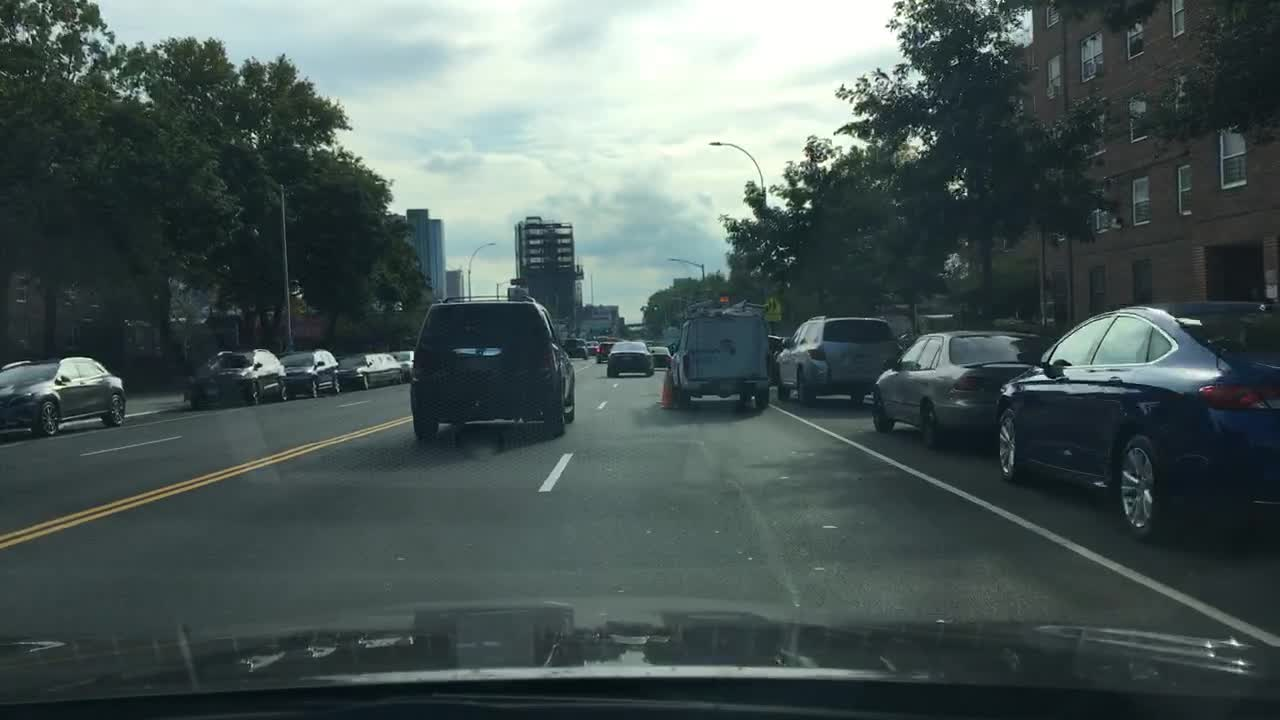car: (997, 304, 1278, 532), (408, 299, 575, 442), (871, 330, 1065, 450), (662, 306, 769, 412), (774, 317, 904, 403), (1, 353, 127, 435), (184, 347, 282, 405), (274, 349, 338, 396), (337, 350, 401, 390), (605, 339, 651, 380), (762, 333, 794, 385), (392, 350, 415, 380), (561, 338, 588, 360)
person: (647, 347, 673, 372), (594, 342, 618, 363), (598, 333, 621, 341), (585, 341, 598, 354), (644, 338, 664, 345)
traffic light: (718, 294, 730, 304)
traffic sign: (766, 294, 780, 322)
